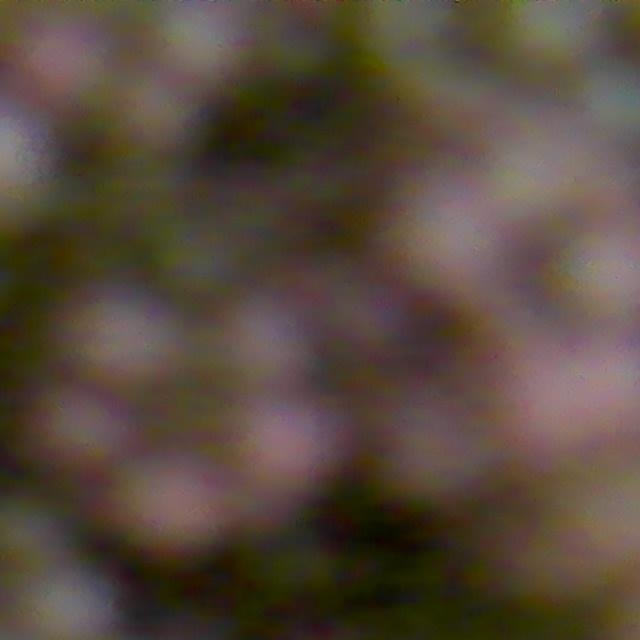SeaGrape: (106, 434, 222, 552), (234, 407, 340, 499), (215, 298, 321, 390), (69, 297, 175, 389), (8, 23, 102, 115), (36, 389, 126, 473), (24, 563, 122, 640)
